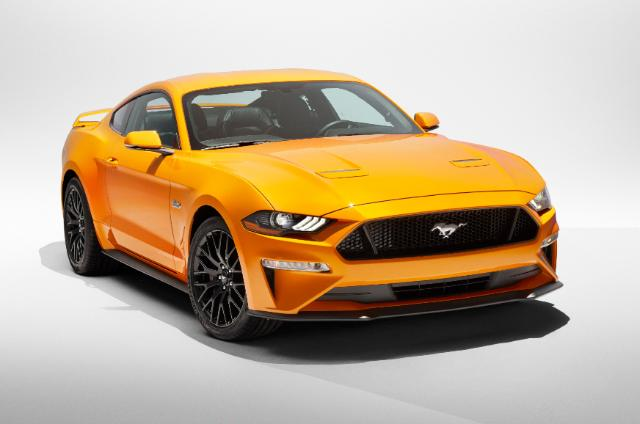ford-mustang: (61, 69, 565, 341)
